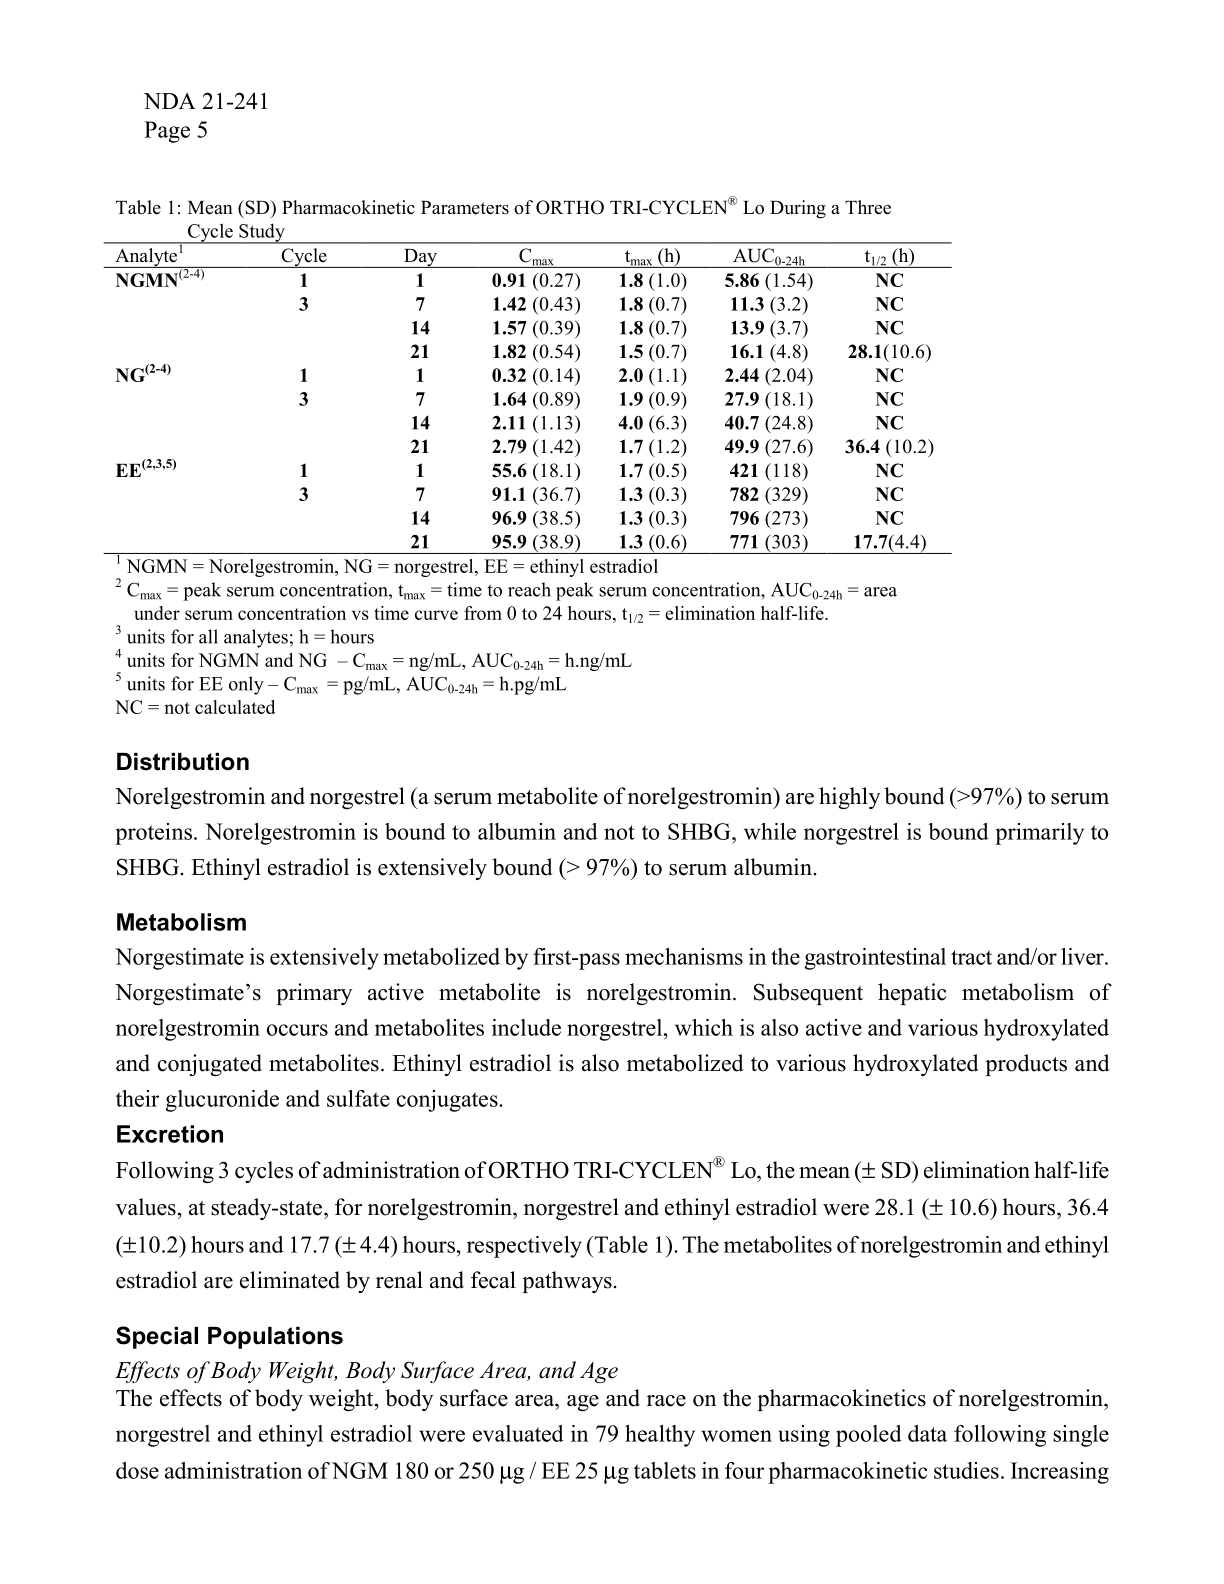partial_lined: (103, 239, 951, 557)
